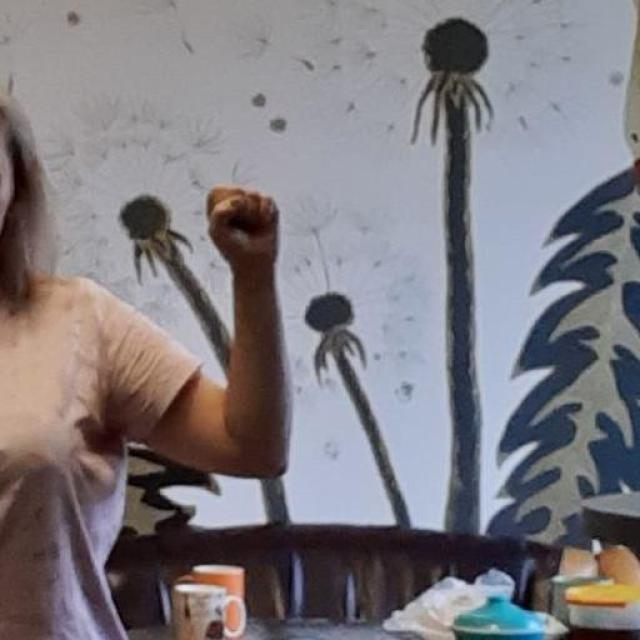hand: (205, 184, 279, 270)
